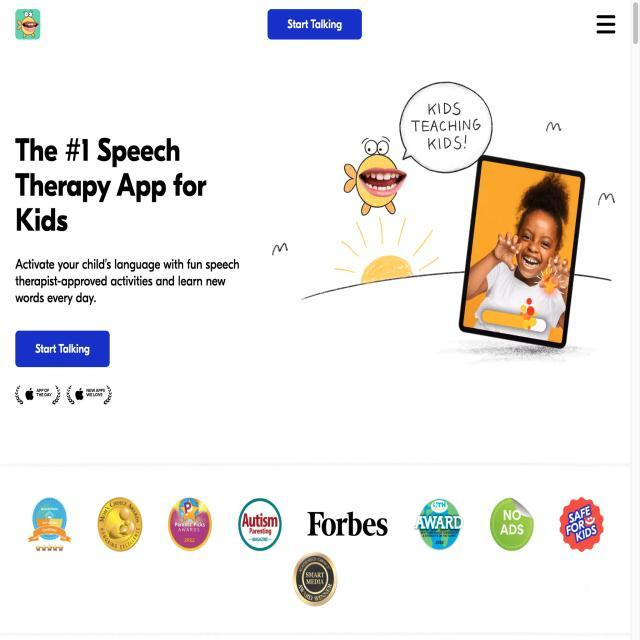button: (10, 327, 126, 381), (255, 1, 371, 52)
text: (3, 123, 231, 235), (5, 248, 252, 312)
